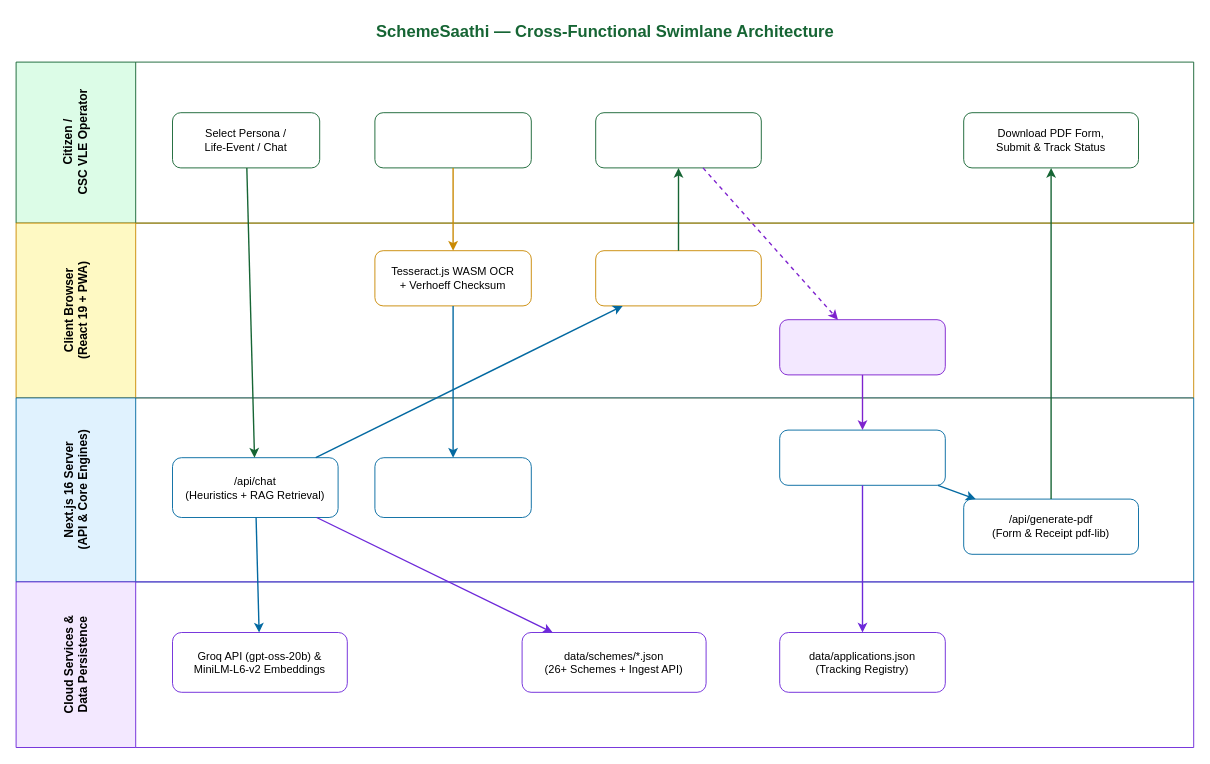
This 1210x764 diagram has some shape labels left out. The centre of each missing label's shape, as x and y in pixels:
"/api/applications (Create & Advance Stage)" goes at [862,457].
"/api/ekyc/digilocker (OTP + SHA-256 Hash)" goes at [452,487].
"Evaluate Client DAG (ProofGraphModal)" goes at [678,278].
"Inspect Proof Graph & DBT Scrutiny Checklist" goes at [678,140].
"localStorage Offline Queue (flushOfflineSubmissions)" goes at [862,347].
"Upload ID Card or Enter DigiLocker OTP" goes at [452,140].
